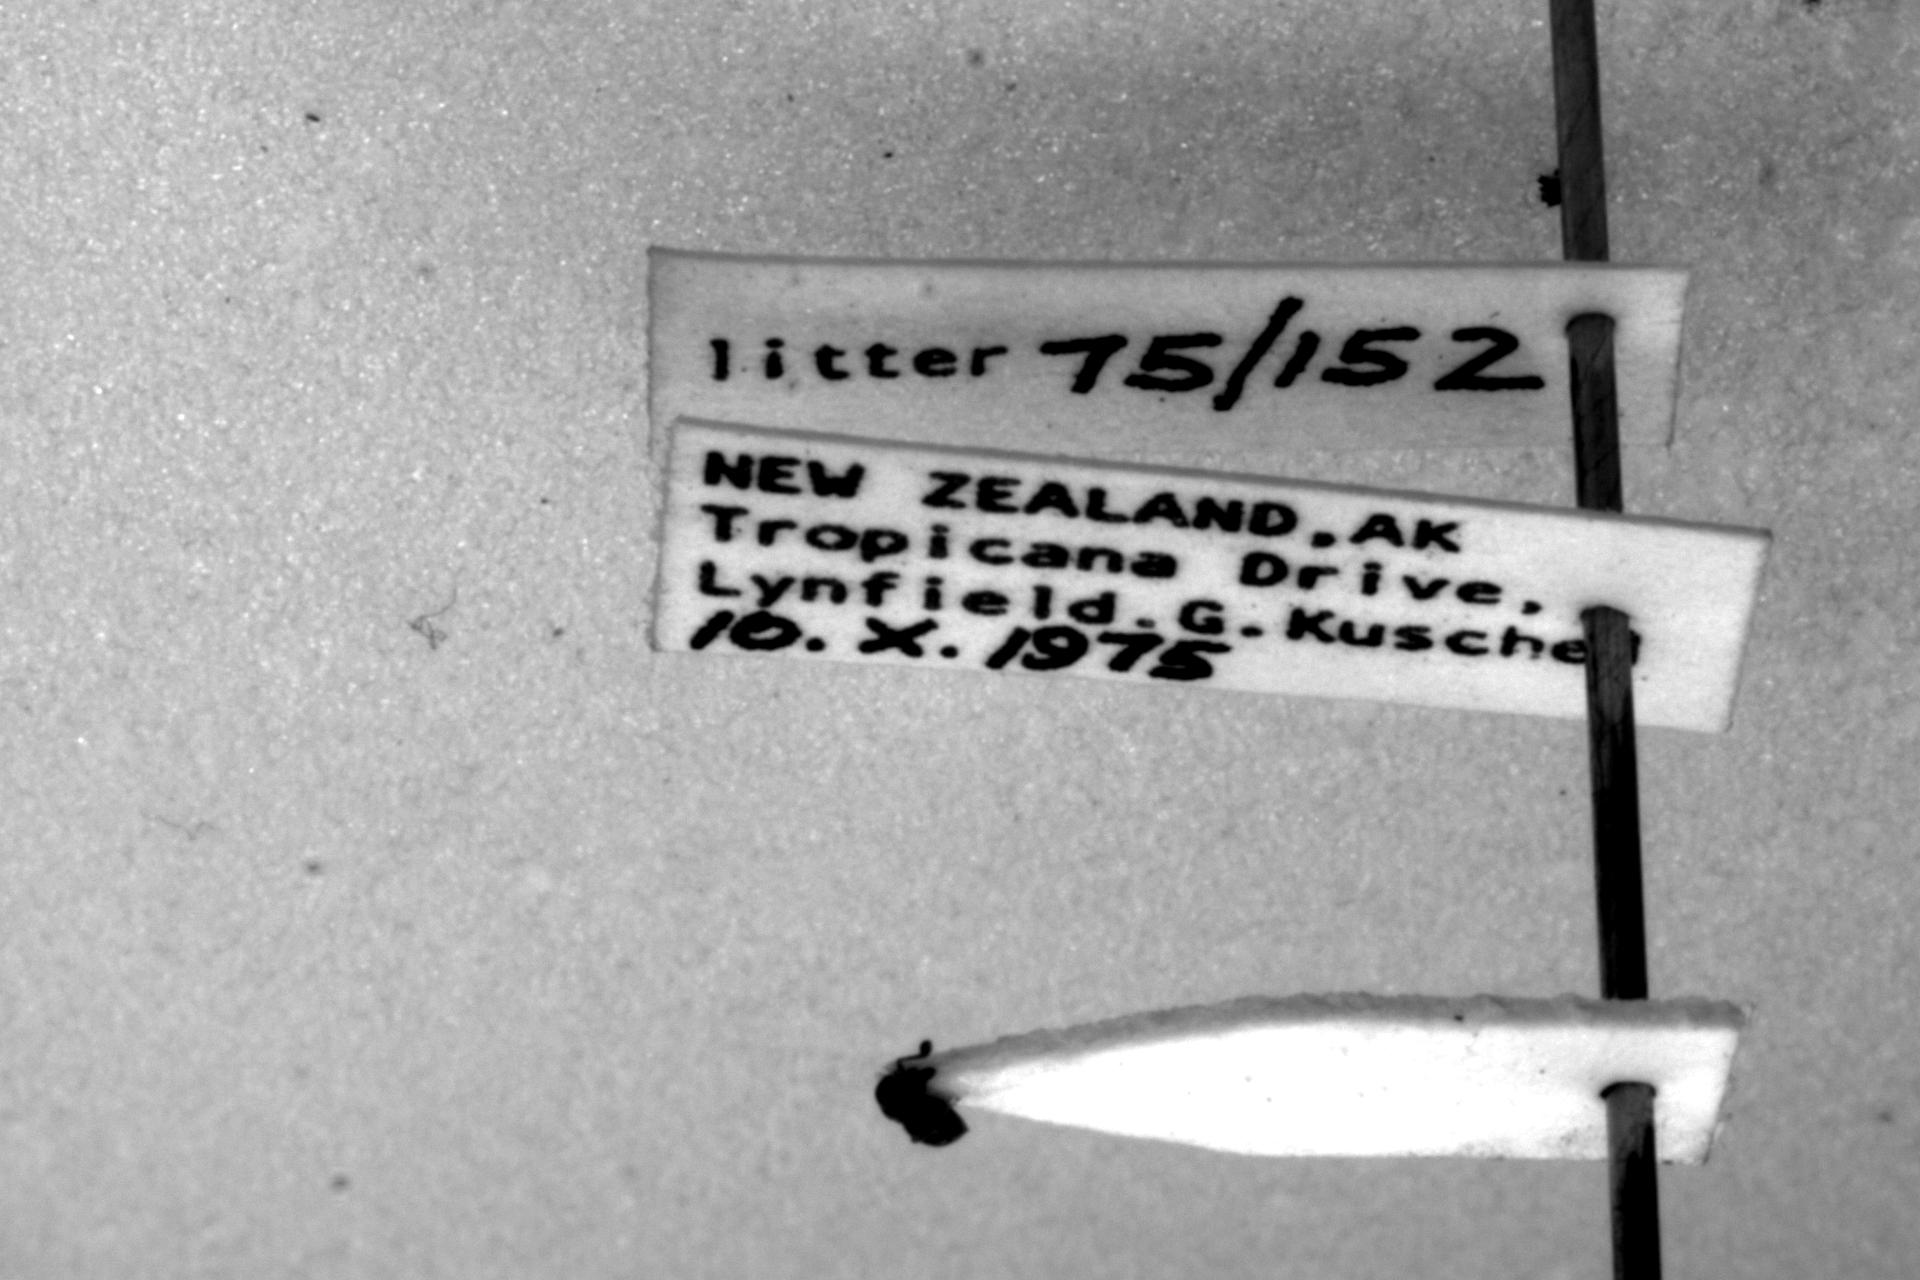mixed_label: (653, 424, 1770, 731), (647, 250, 1686, 456)
